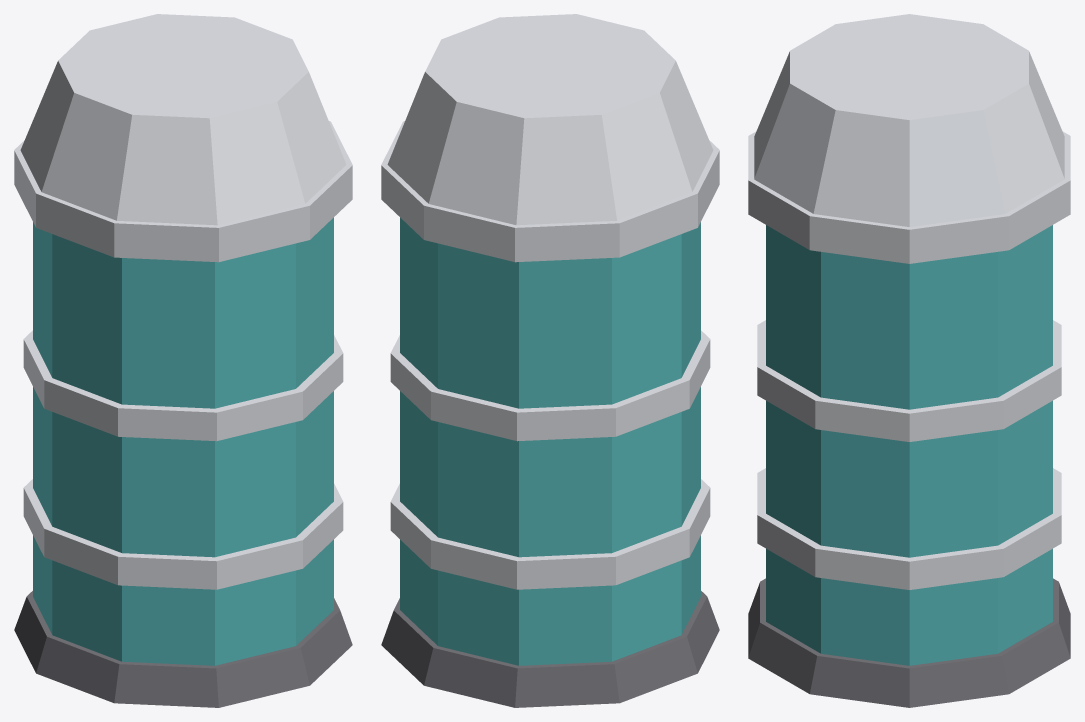
File: retro-diner-and-roadside-motel-litter-bin-1761eca7__37361.glb
3 renders of one model, left to right at view 1: azimuth 30°, elevation 25°; view 2: azimuth 150°, elevation 25°; view 3: azimuth 270°, elevation 25°, orthographic.
Parts seen in each view (by area): view 1: litter-bin-turquoise, litter-bin-chrome, litter-bin-asphalt; view 2: litter-bin-turquoise, litter-bin-chrome, litter-bin-asphalt; view 3: litter-bin-turquoise, litter-bin-chrome, litter-bin-asphalt.
Boxes of the visible parts, bbox=[...] form: litter-bin-turquoise: bbox=[33, 217, 333, 665]; litter-bin-chrome: bbox=[14, 14, 352, 589]; litter-bin-asphalt: bbox=[14, 591, 352, 707]; litter-bin-turquoise: bbox=[400, 217, 700, 665]; litter-bin-chrome: bbox=[381, 14, 719, 589]; litter-bin-asphalt: bbox=[381, 591, 719, 707]; litter-bin-turquoise: bbox=[766, 225, 1052, 665]; litter-bin-chrome: bbox=[748, 14, 1070, 589]; litter-bin-asphalt: bbox=[748, 578, 1070, 707].
Bounding box in the file's own units: 0.54 × 1 × 0.5136.
